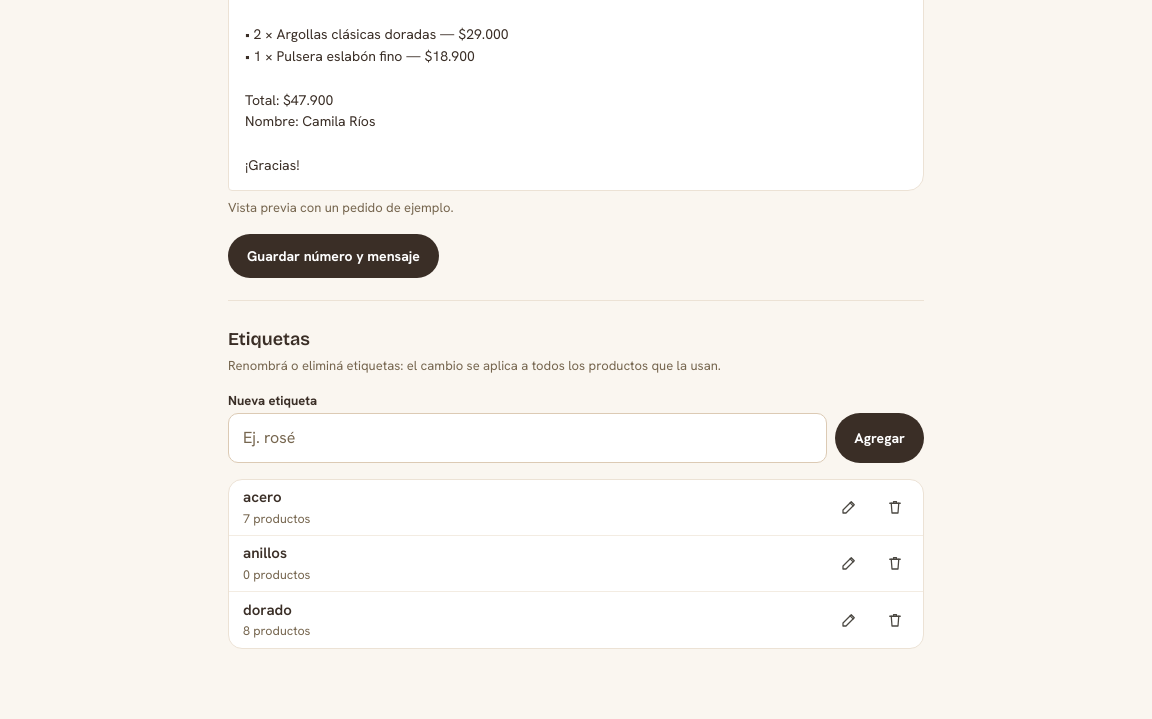
Test: AjustesPage · etiquetas › agregar valida vacío y repetida, y crea la nueva
The width and height of the screenshot is (1152, 719).
(page scrolled)
Expected: the text "7 productos" is shown, top-left (243, 510), bottom-right (310, 527)
Step 1. Click the button "Agregar" → (880, 438), box top-left (835, 413), bottom-right (924, 463)
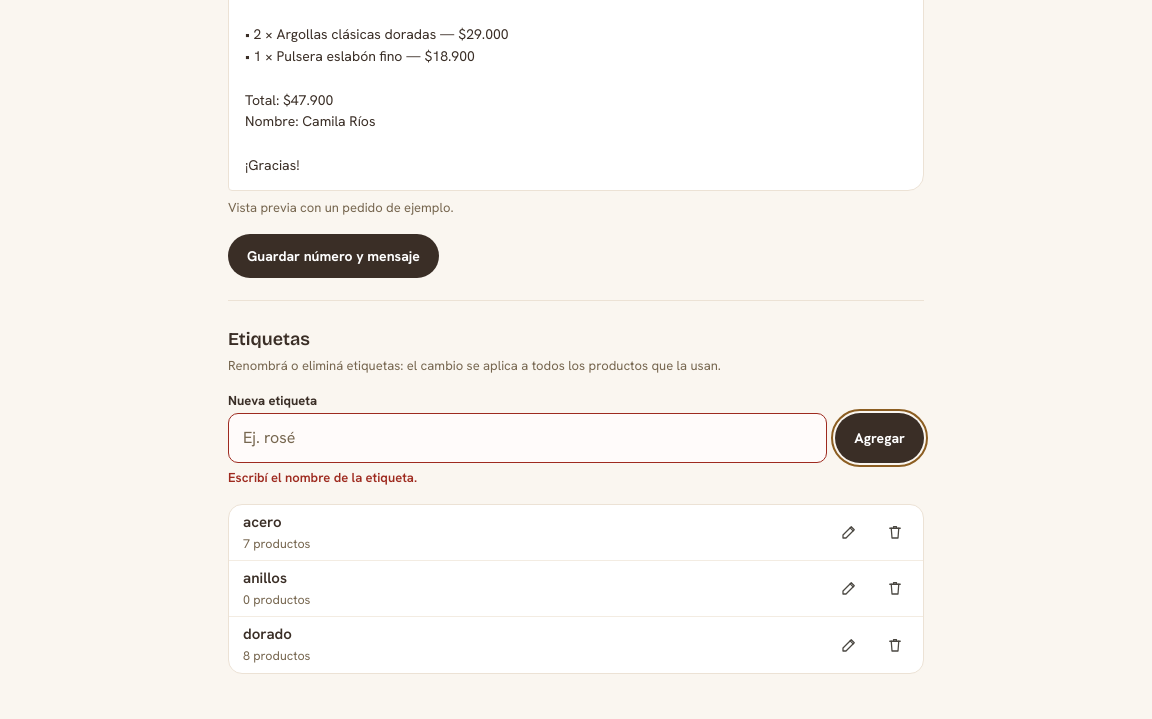
Result: the text "Escribí el nombre de la etiqueta." is shown at top-left (228, 469), bottom-right (417, 486)
Step 2. Type " Dorado " into the field labelled "Nueva etiqueta" → (528, 438), box top-left (228, 413), bottom-right (827, 463)
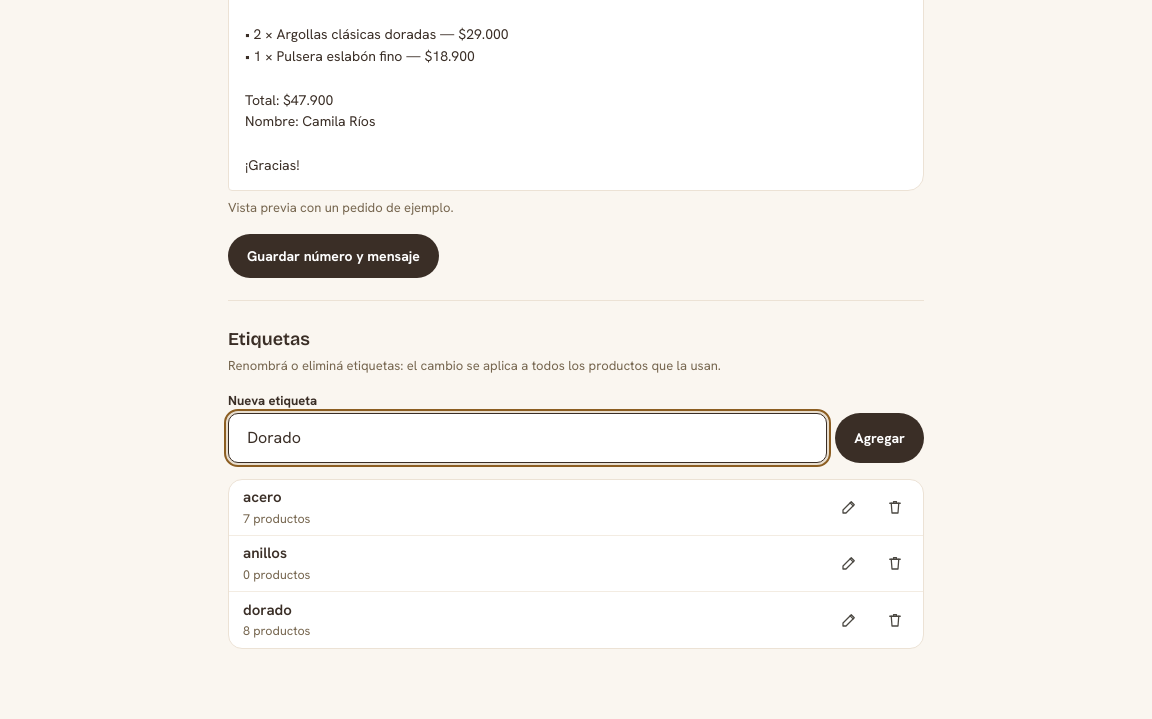
Step 3. Click the button "Agregar" → (880, 438), box top-left (835, 413), bottom-right (924, 463)
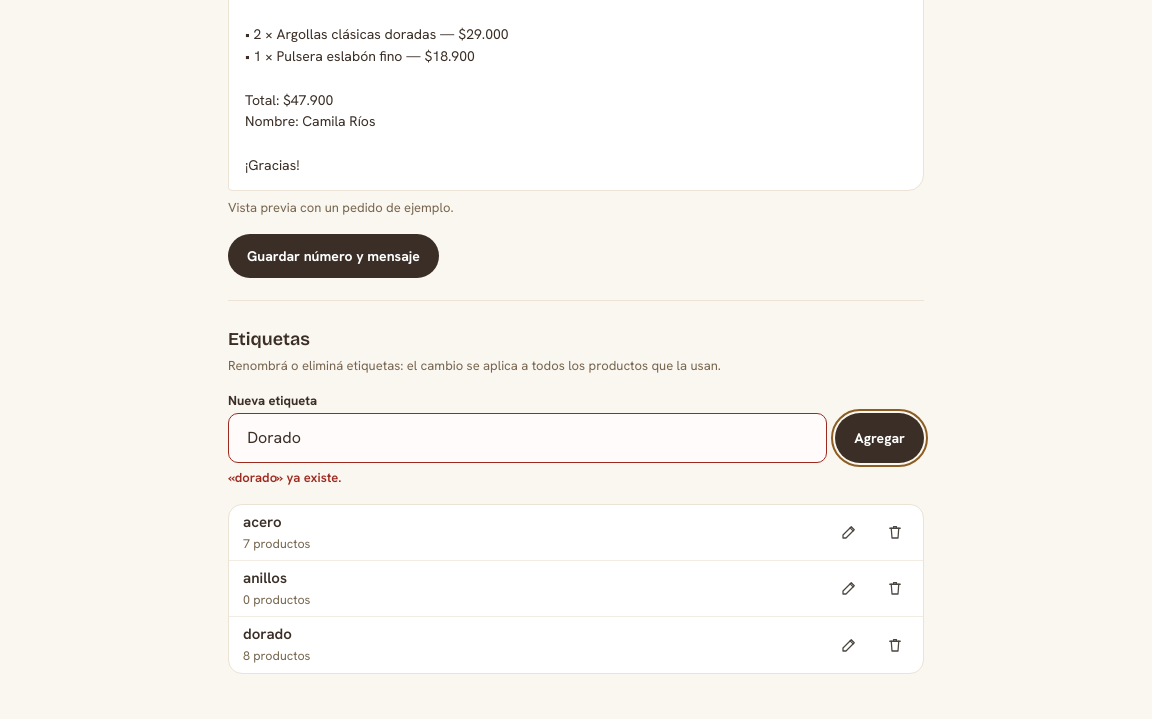
Result: the text "«dorado» ya existe." is shown at top-left (228, 469), bottom-right (342, 486)
Step 4. Replace the text in the field labelled "Nueva etiqueta" with "Oro rosa" → (528, 438), box top-left (228, 413), bottom-right (827, 463)
Then press Enter
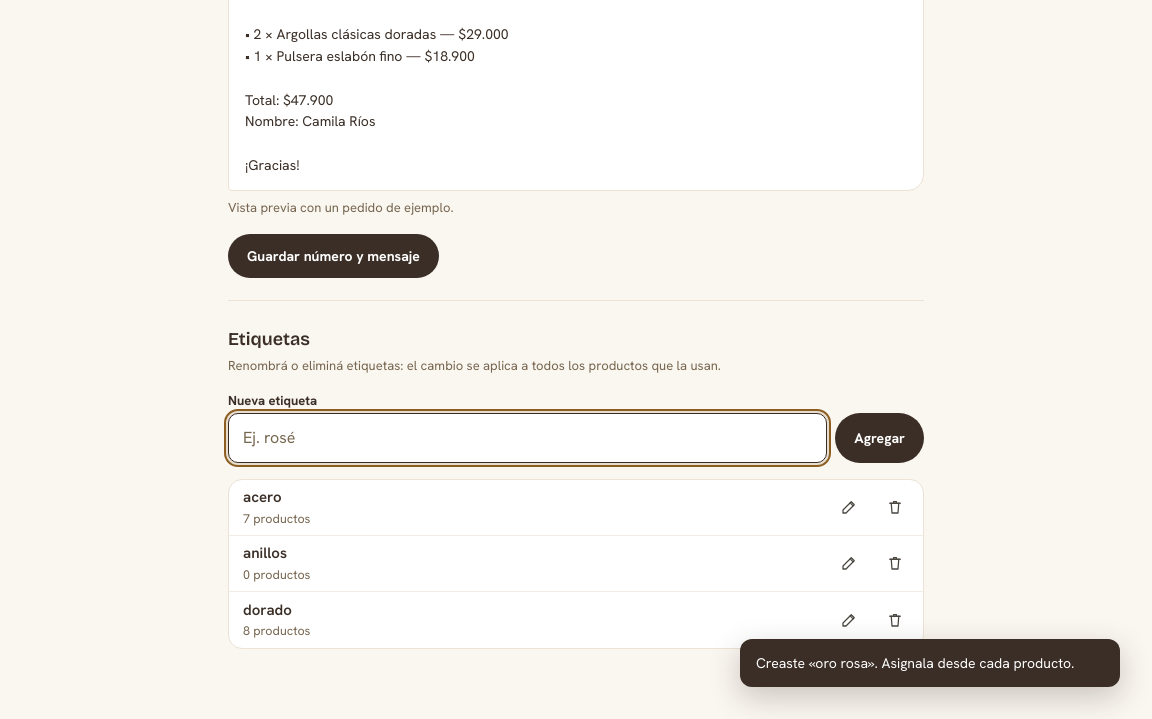
Result: the text "Creaste «oro rosa». Asignala desde cada producto." is shown at top-left (740, 639), bottom-right (1120, 687)
